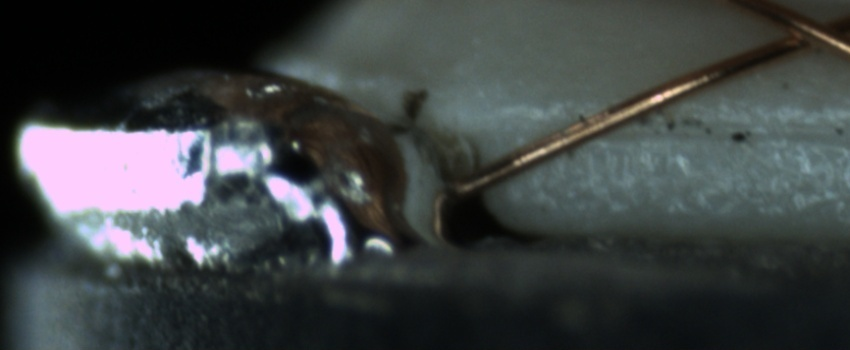CL: (759, 3, 848, 62)
DL: (528, 90, 845, 163)
